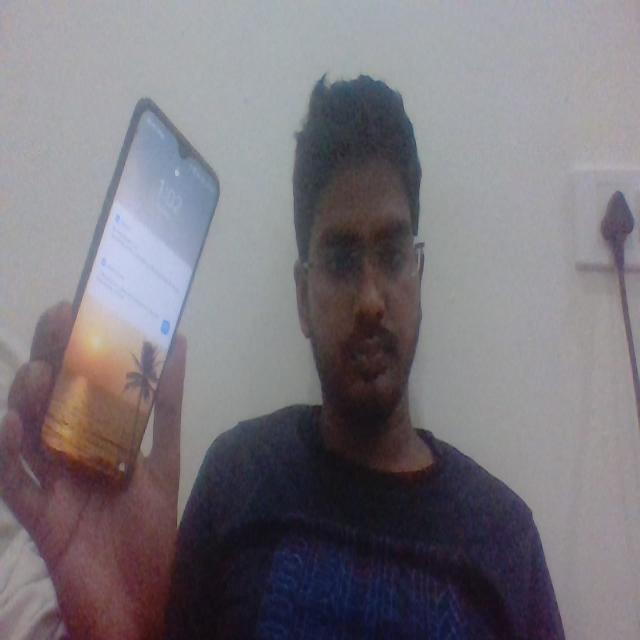Phone: (33, 91, 226, 494)
